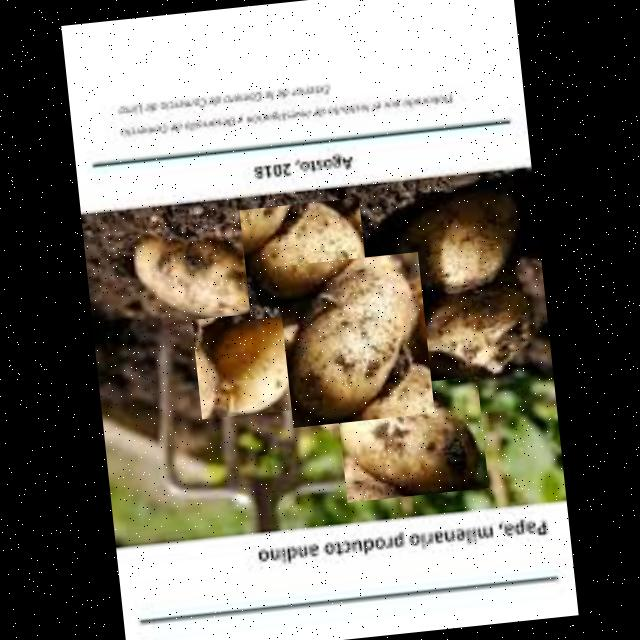Diseased-fungal potato: (276, 252, 434, 428), (336, 376, 488, 502), (239, 198, 370, 320), (127, 223, 278, 327), (191, 307, 317, 419)
